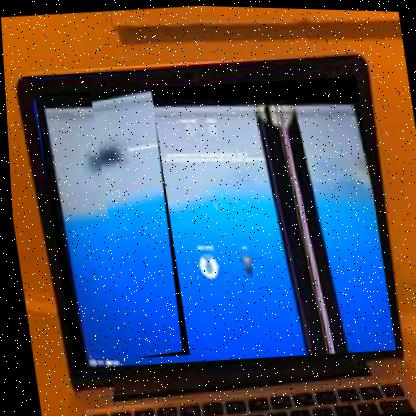fade: (33, 67, 395, 377)
lines: (89, 86, 187, 360)
